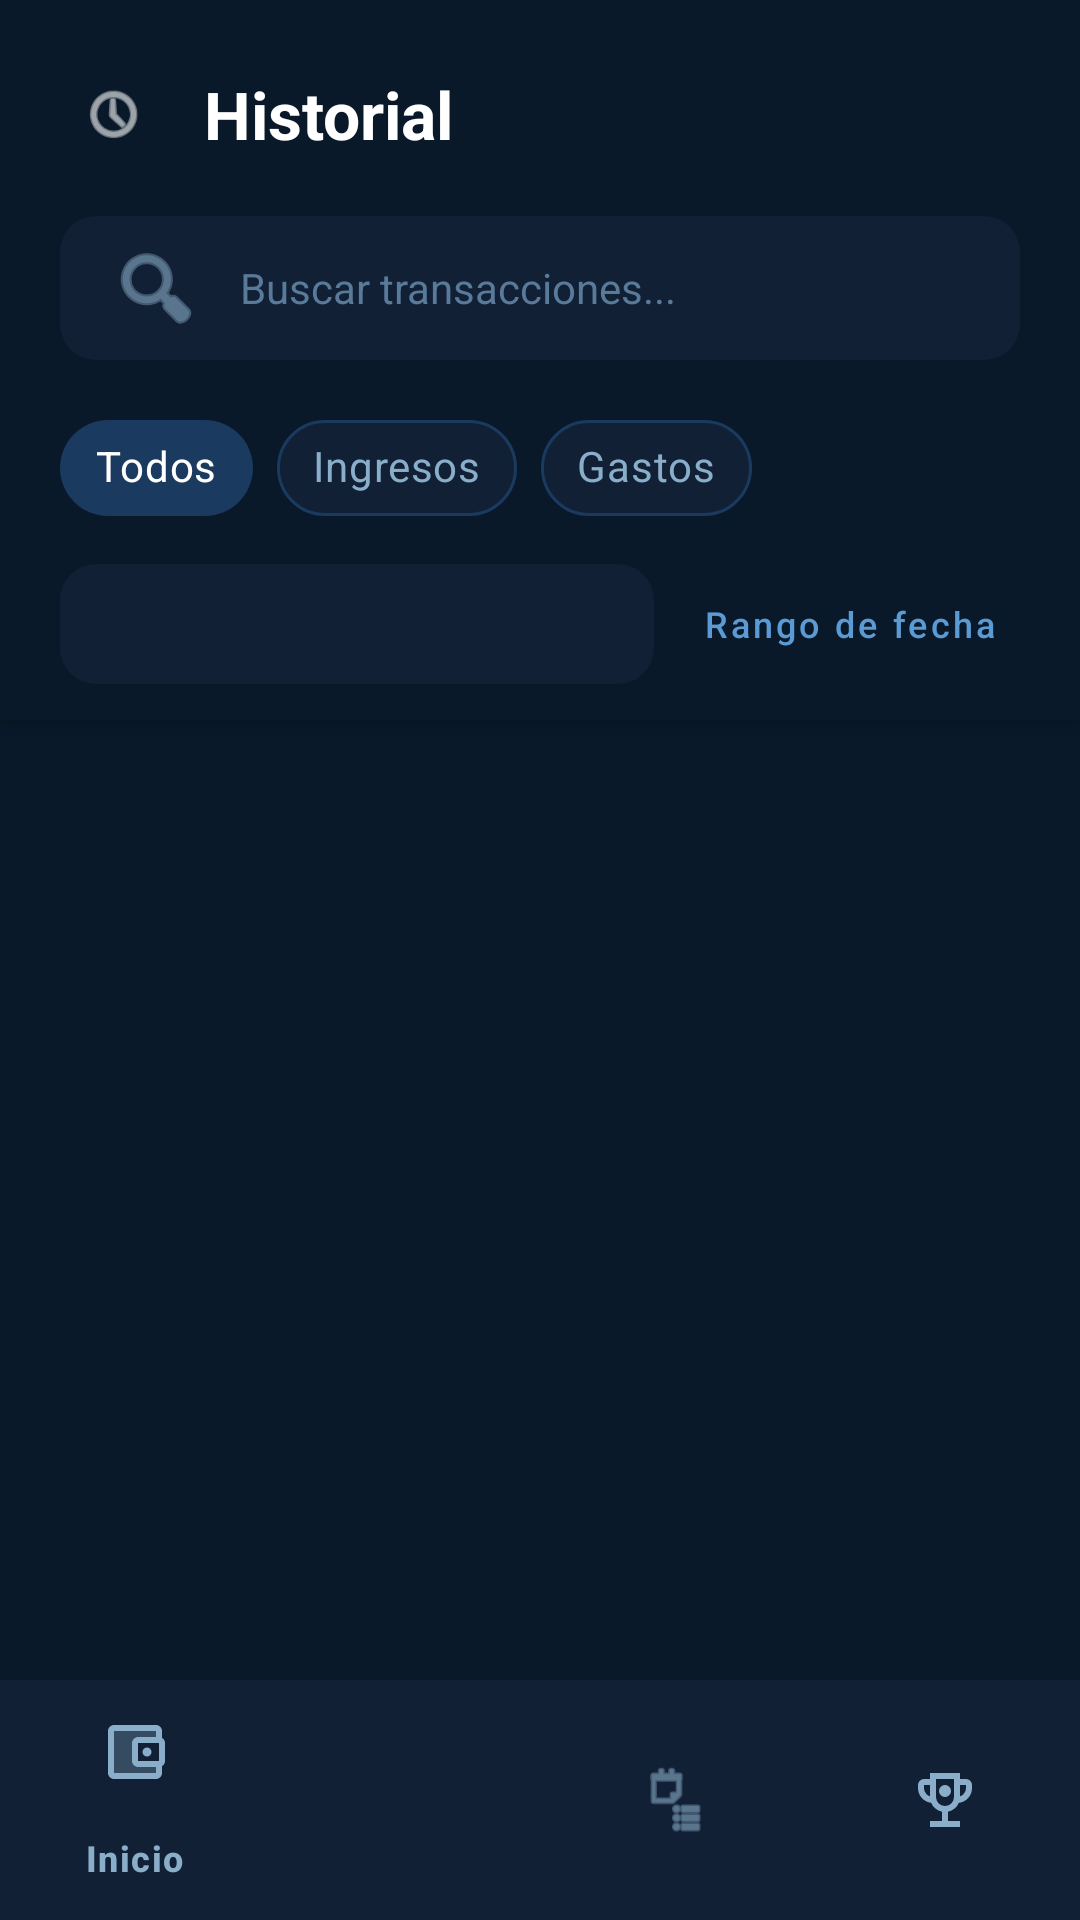

Screen size 1080px x 1920px. Icon name, then its center in pixels as (x,y):
recent history: (114,114)
